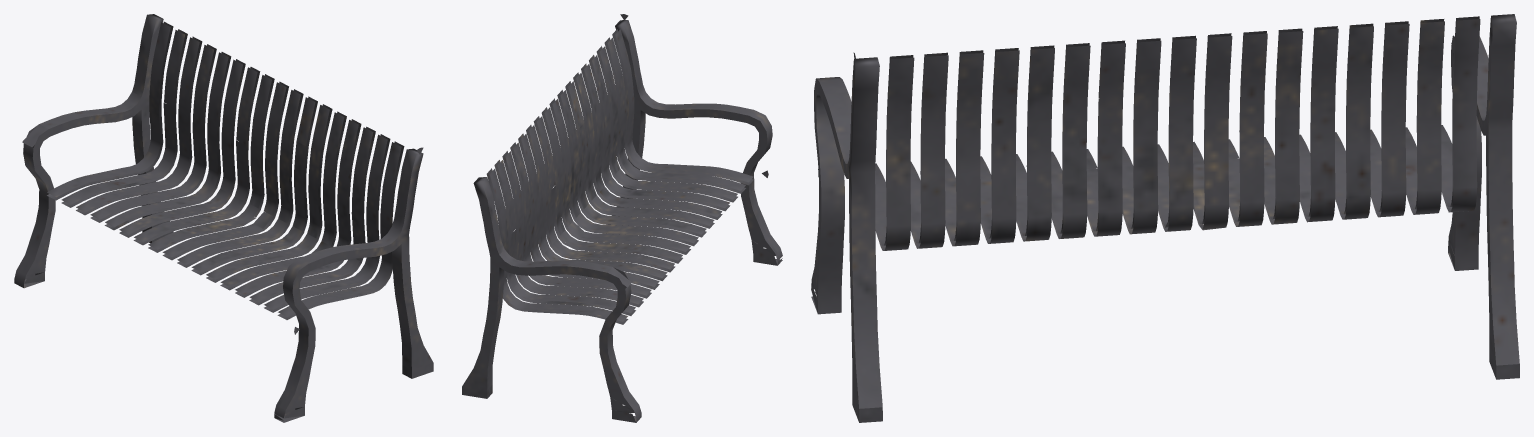
File: park_bench.glb
3 views of the same model, side by side, from view 1: azimuth 30°, elevation 25°; view 2: azimuth 150°, elevation 25°; view 3: azimuth 270°, elevation 25° (orthographic). The views are drawn at different scales.
Visible parts, largest first — view 1: park_bench; view 2: park_bench; view 3: park_bench.
Boxes of the visible parts, x1,y1,x2,y2 form: park_bench: [14, 14, 433, 422]; park_bench: [462, 14, 782, 422]; park_bench: [811, 14, 1519, 422].
Bounding box in the file's own units: 1.1 × 1.07 × 1.92.
1 material, 1 textured.
